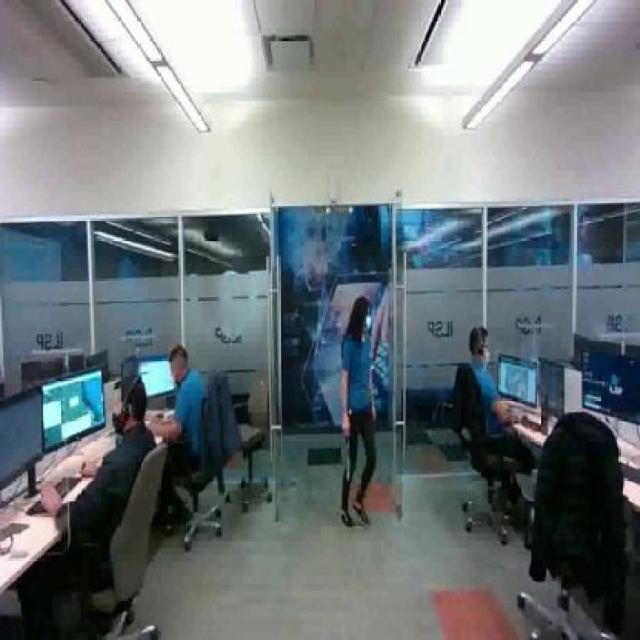sem_oculos: (114, 397, 135, 417), (475, 337, 494, 354), (169, 359, 189, 375)
